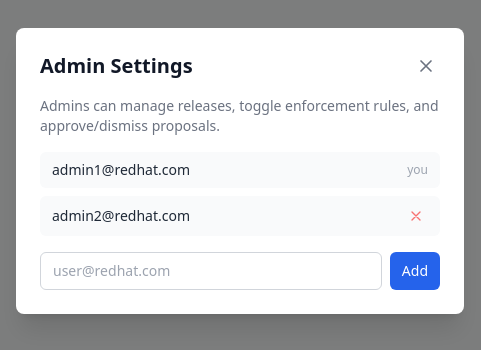
Test: AdminSettingsModal › prevents adding duplicate admin
Type "admin1@redhat.com" into the field with test id "new-admin-input" at (211, 271), box top-left (40, 252), bottom-right (382, 290)
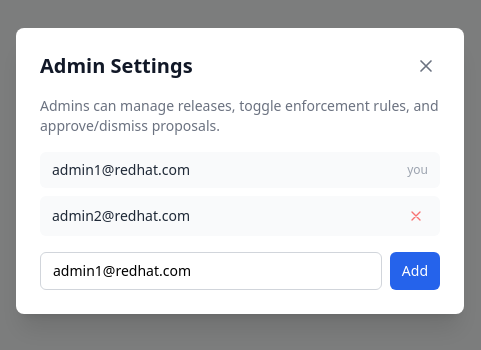
Click the button with test id "add-admin-btn" at (415, 271), box top-left (390, 252), bottom-right (440, 290)
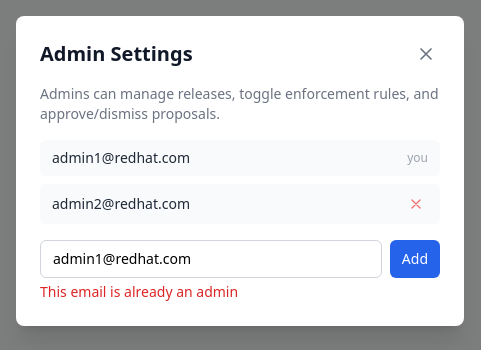
Expected: the text "This email is already an admin" is shown, top-left (40, 282), bottom-right (238, 301)
